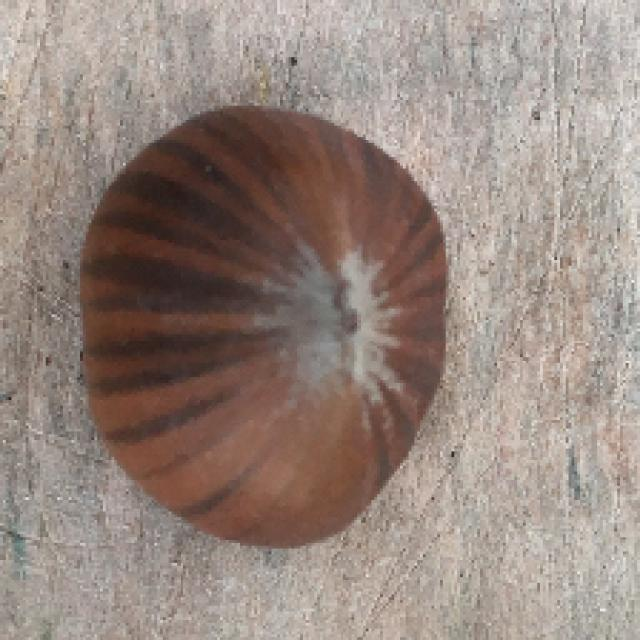damagedHazelnut: (79, 106, 456, 547)
